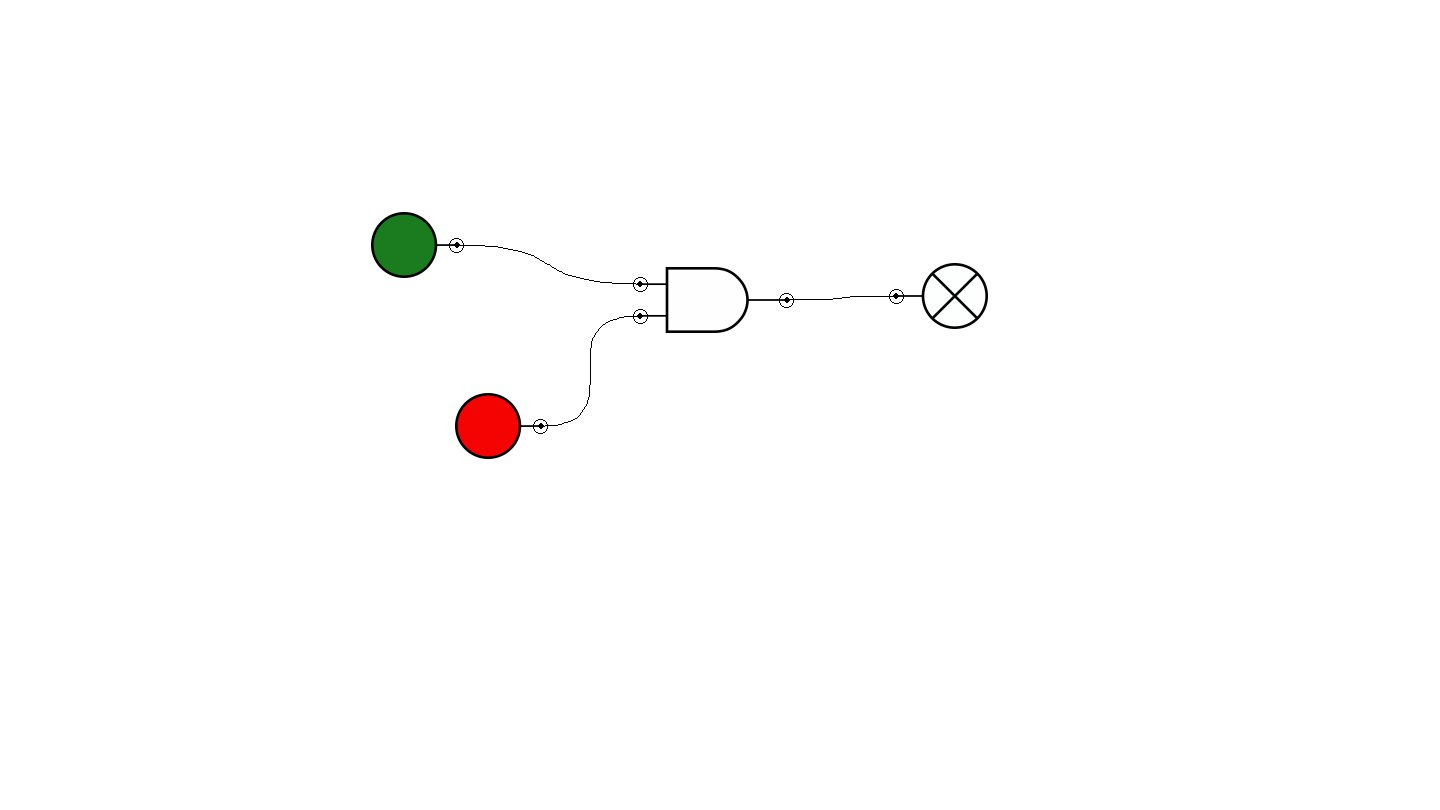and: (633, 267, 794, 333)
bulb: (889, 263, 988, 329)
switch_False: (455, 393, 548, 459)
switch_True: (371, 212, 464, 278)
